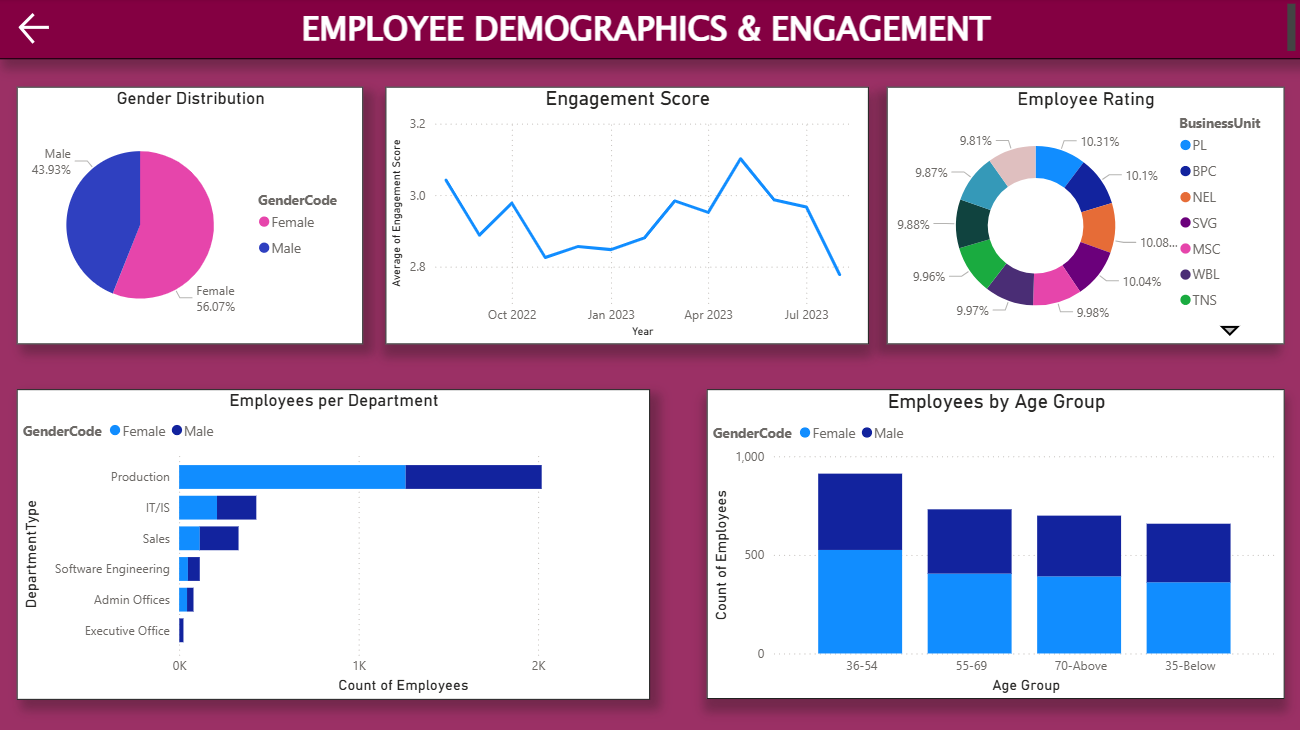

This screenshot's page, from the dashboard's own definition file:
{"tool":"powerbi","page":{"name":"Employee Demographics & Compensation Analysis","canvas":[1280,720],"ordinal":2},"visuals":[{"type":"barChart","title":"Employees per Department","fields":{"Category":["employee_data.DepartmentType"],"Series":["employee_data.GenderCode"],"Y":["CountNonNull(employee_data.EmpID)"]},"box":[18.8,383.8,621.2,305],"z":0},{"type":"pieChart","title":"Gender Distribution ","fields":{"Y":["CountNonNull(employee_data.EmpID)"],"Category":["employee_data.GenderCode"]},"box":[18.6,87.1,340,252.9],"z":1000},{"type":"columnChart","title":"Employees by Age Group ","fields":{"Series":["employee_data.GenderCode"],"Category":["employee_data.Age Group"],"Y":["CountNonNull(employee_data.EmpID)"]},"box":[695.7,384.3,567.1,304.3],"z":2000},{"type":"lineChart","title":"Engagement Score","fields":{"Category":["employee_engagement_survey_data.Survey Date.Variation.Date Hierarchy.Year","employee_engagement_survey_data.Survey Date.Variation.Date Hierarchy.Month"],"Y":["Avg(employee_engagement_survey_data.Engagement Score)"]},"box":[380,87.1,474.3,252.9],"z":3000},{"type":"donutChart","title":"Employee Rating","fields":{"Category":["employee_data.BusinessUnit"],"Y":["Avg(employee_data.Current Employee Rating)"]},"box":[872.9,87.1,390,252.9],"z":4000},{"type":"textbox","box":[0,0,1280,60],"z":5000},{"type":"actionButton","box":[16.2,10,100,40],"z":6000}]}

Visuals, with their boxes in screenshot pixels (x1, y1, x2, y2), scaled from the page's 1280x720 canvas onto the 1300x730 screenshot:
"Employees per Department" barChart: [left=19, top=389, right=650, bottom=698]
"Gender Distribution " pieChart: [left=19, top=88, right=364, bottom=345]
"Employees by Age Group " columnChart: [left=707, top=390, right=1283, bottom=698]
"Engagement Score" lineChart: [left=386, top=88, right=868, bottom=345]
"Employee Rating" donutChart: [left=887, top=88, right=1283, bottom=345]
textbox: [left=0, top=0, right=1299, bottom=61]
actionButton: [left=16, top=10, right=118, bottom=51]
